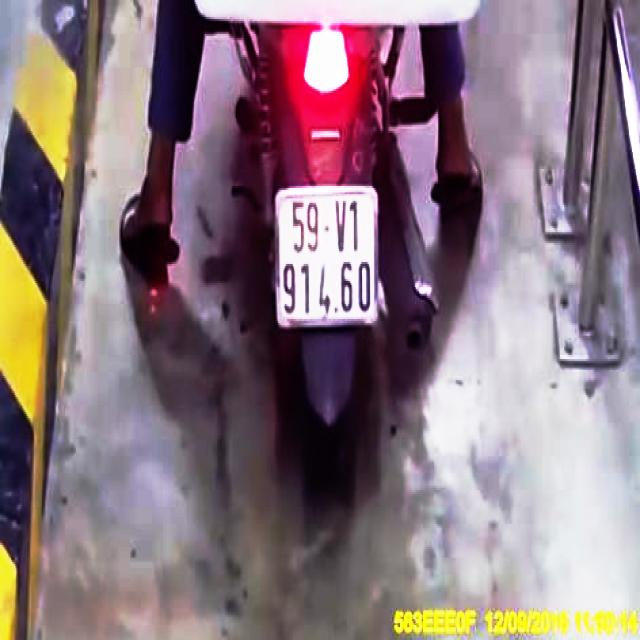license_plate: (281, 194, 378, 327)
